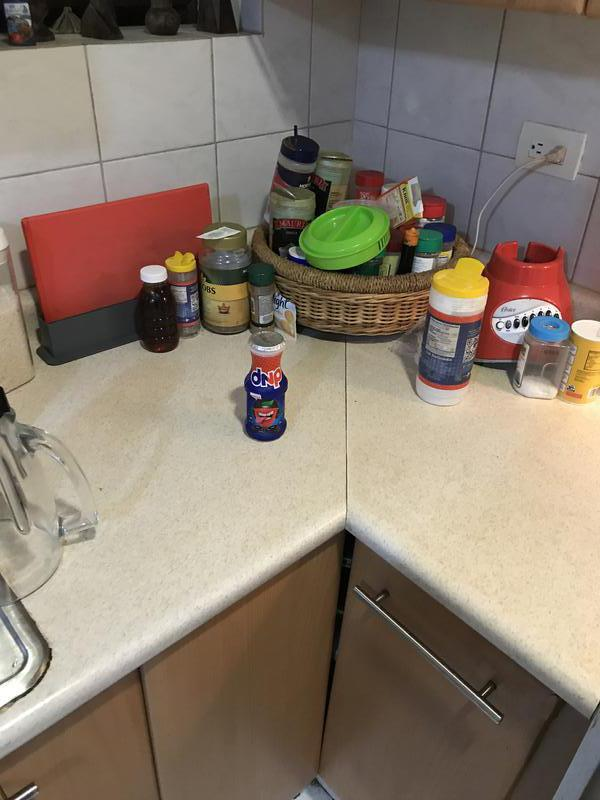danup: (244, 329, 287, 443)
